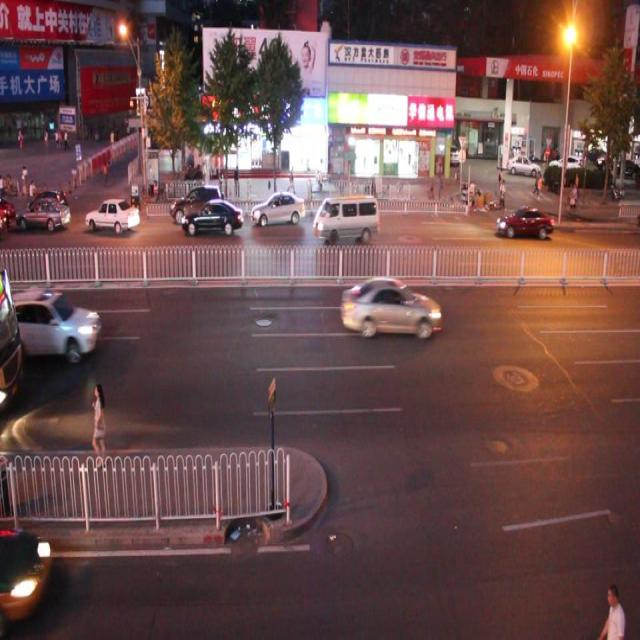car: (340, 272, 441, 338), (11, 286, 100, 360), (170, 182, 226, 226), (181, 197, 243, 236), (494, 203, 554, 240), (17, 192, 70, 232), (84, 197, 142, 232), (251, 190, 305, 227), (28, 187, 69, 216)
truck: (313, 194, 379, 242)
